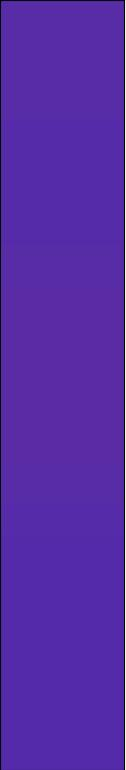safe: (9, 14, 114, 755)
